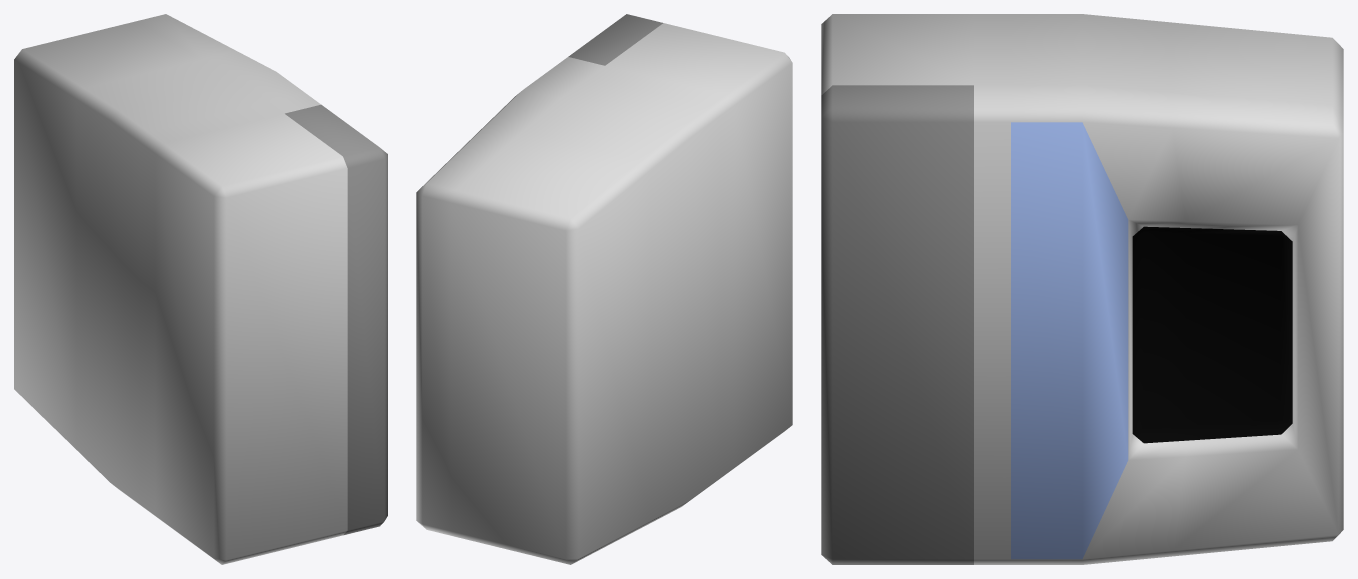
3 renders of one model, left to right at view 1: azimuth 30°, elevation 25°; view 2: azimuth 150°, elevation 25°; view 3: azimuth 270°, elevation 25°, orthographic. The views are drawn at different scales.
Visible parts, largest first — view 1: Cube; view 2: Cube; view 3: Cube.
Boxes of the visible parts, x1,y1,x2,y2 form: Cube: (14,14,387,564); Cube: (416,14,792,564); Cube: (821,14,1343,564).
Bounding box in the file's own units: 10 × 20.8 × 21.5.
